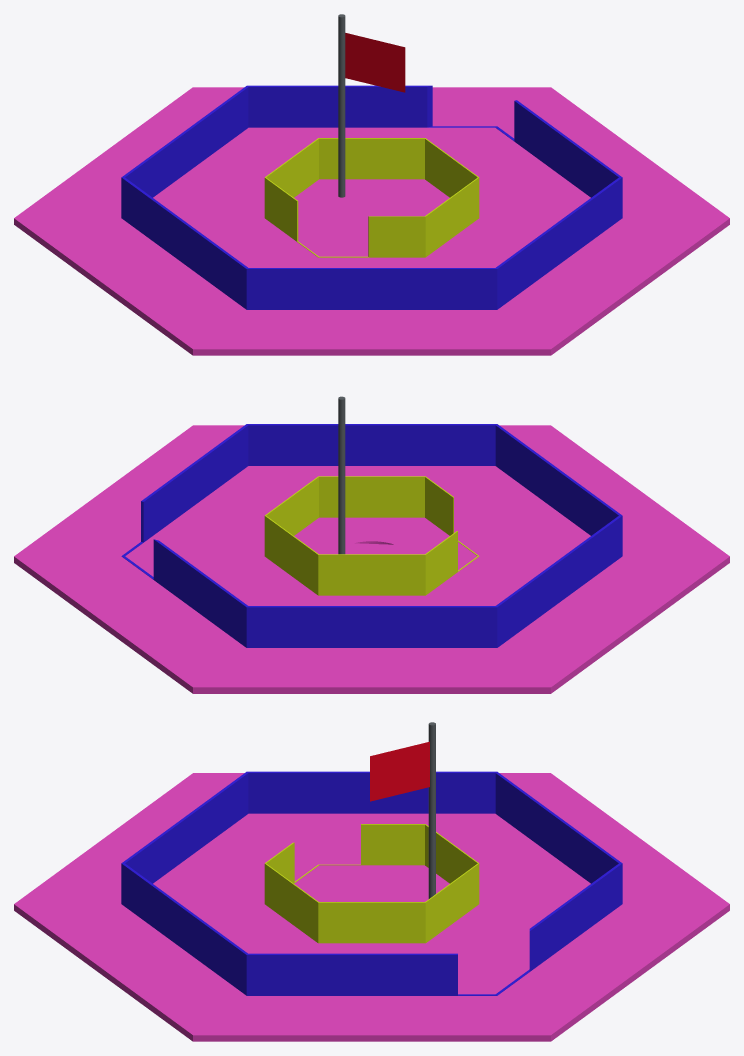
File: Pista2.fbx
3 views of the same model, one above another, from view 1: azimuth 30°, elevation 25°; view 2: azimuth 150°, elevation 25°; view 3: azimuth 270°, elevation 25° (orthographic).
Visible parts, largest first — view 1: Cylinder.001, Cylinder.002, Cylinder.003, Plane, Cylinder; view 2: Cylinder.001, Cylinder.002, Cylinder.003, Cylinder; view 3: Cylinder.001, Cylinder.002, Cylinder.003, Plane, Cylinder.
Part boxes in pixels (bbox=[...]): Cylinder.001: bbox=[14, 87, 729, 355]; Cylinder.002: bbox=[121, 85, 622, 309]; Cylinder.003: bbox=[264, 138, 479, 257]; Plane: bbox=[345, 33, 405, 92]; Cylinder: bbox=[338, 14, 345, 197]; Cylinder.001: bbox=[14, 425, 729, 693]; Cylinder.002: bbox=[121, 424, 622, 647]; Cylinder.003: bbox=[264, 476, 479, 595]; Cylinder: bbox=[338, 396, 345, 554]; Cylinder.001: bbox=[14, 773, 729, 1041]; Cylinder.002: bbox=[121, 771, 622, 995]; Cylinder.003: bbox=[264, 824, 479, 943]; Plane: bbox=[370, 741, 429, 801]; Cylinder: bbox=[428, 722, 435, 898].
Size of the model in its own units: 1732 by 766 by 2000.
